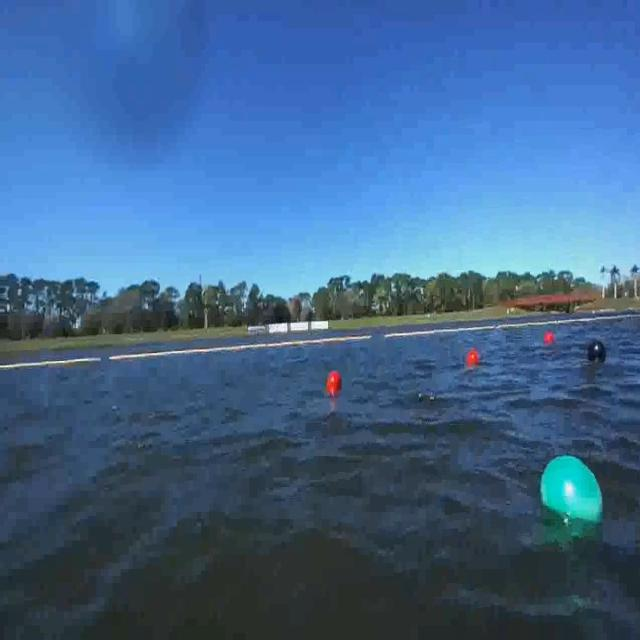black-buoy: (587, 340, 607, 362)
green-buoy: (538, 452, 604, 522)
red-buoy: (469, 350, 483, 370), (328, 372, 341, 392), (543, 332, 554, 347)
